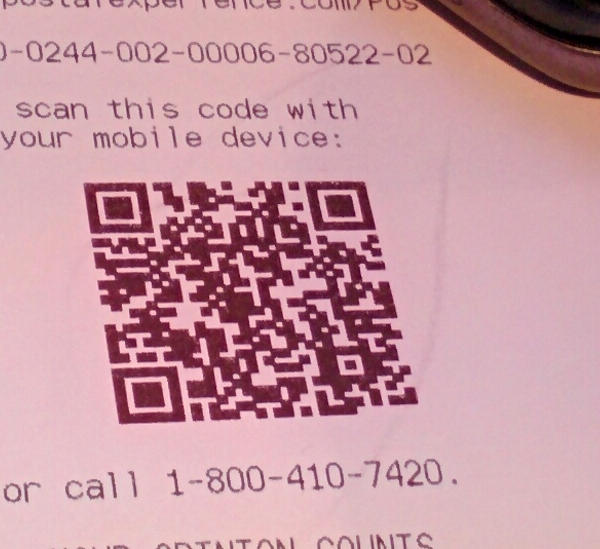QR_CODE: (68, 146, 441, 443)
